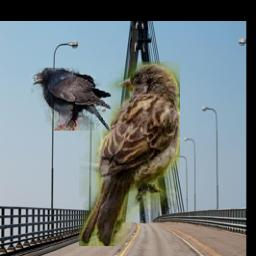Crow: (32, 69, 112, 131)
Sparrow: (80, 63, 181, 247)
